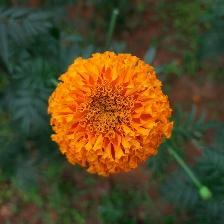marigold: (47, 50, 176, 179)
